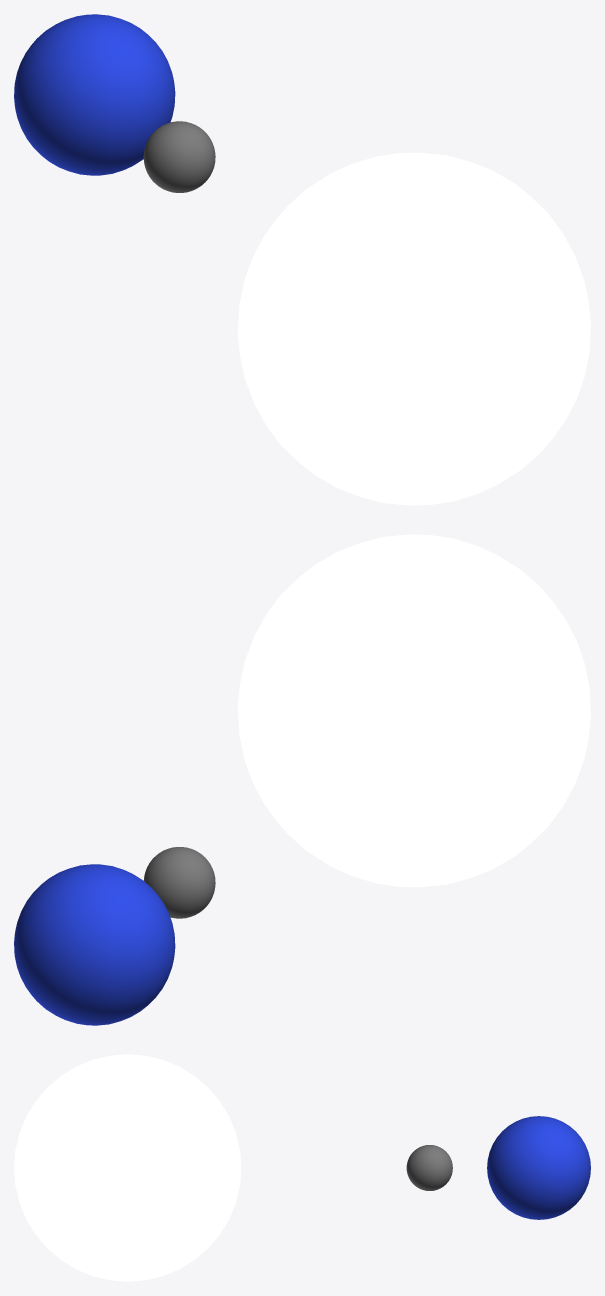
Rendered from earht.gltf.
3 views of the same model, one above another, from view 1: azimuth 30°, elevation 25°; view 2: azimuth 150°, elevation 25°; view 3: azimuth 270°, elevation 25° (orthographic). The views are drawn at different scales.
Visible parts, largest first — view 1: Icosphere.001, Icosphere, Icosphere.002; view 2: Icosphere.001, Icosphere, Icosphere.002; view 3: Icosphere.001, Icosphere, Icosphere.002.
Part boxes in pixels (<box>): Icosphere.001: <box>238,152,590,505</box>; Icosphere: <box>14,14,175,175</box>; Icosphere.002: <box>143,121,215,192</box>; Icosphere.001: <box>238,534,590,887</box>; Icosphere: <box>14,864,175,1025</box>; Icosphere.002: <box>143,847,215,918</box>; Icosphere.001: <box>14,1054,241,1281</box>; Icosphere: <box>487,1116,590,1219</box>; Icosphere.002: <box>406,1145,452,1190</box>.
Size of the model in its own units: 10.24 by 10.24 by 25.97.
